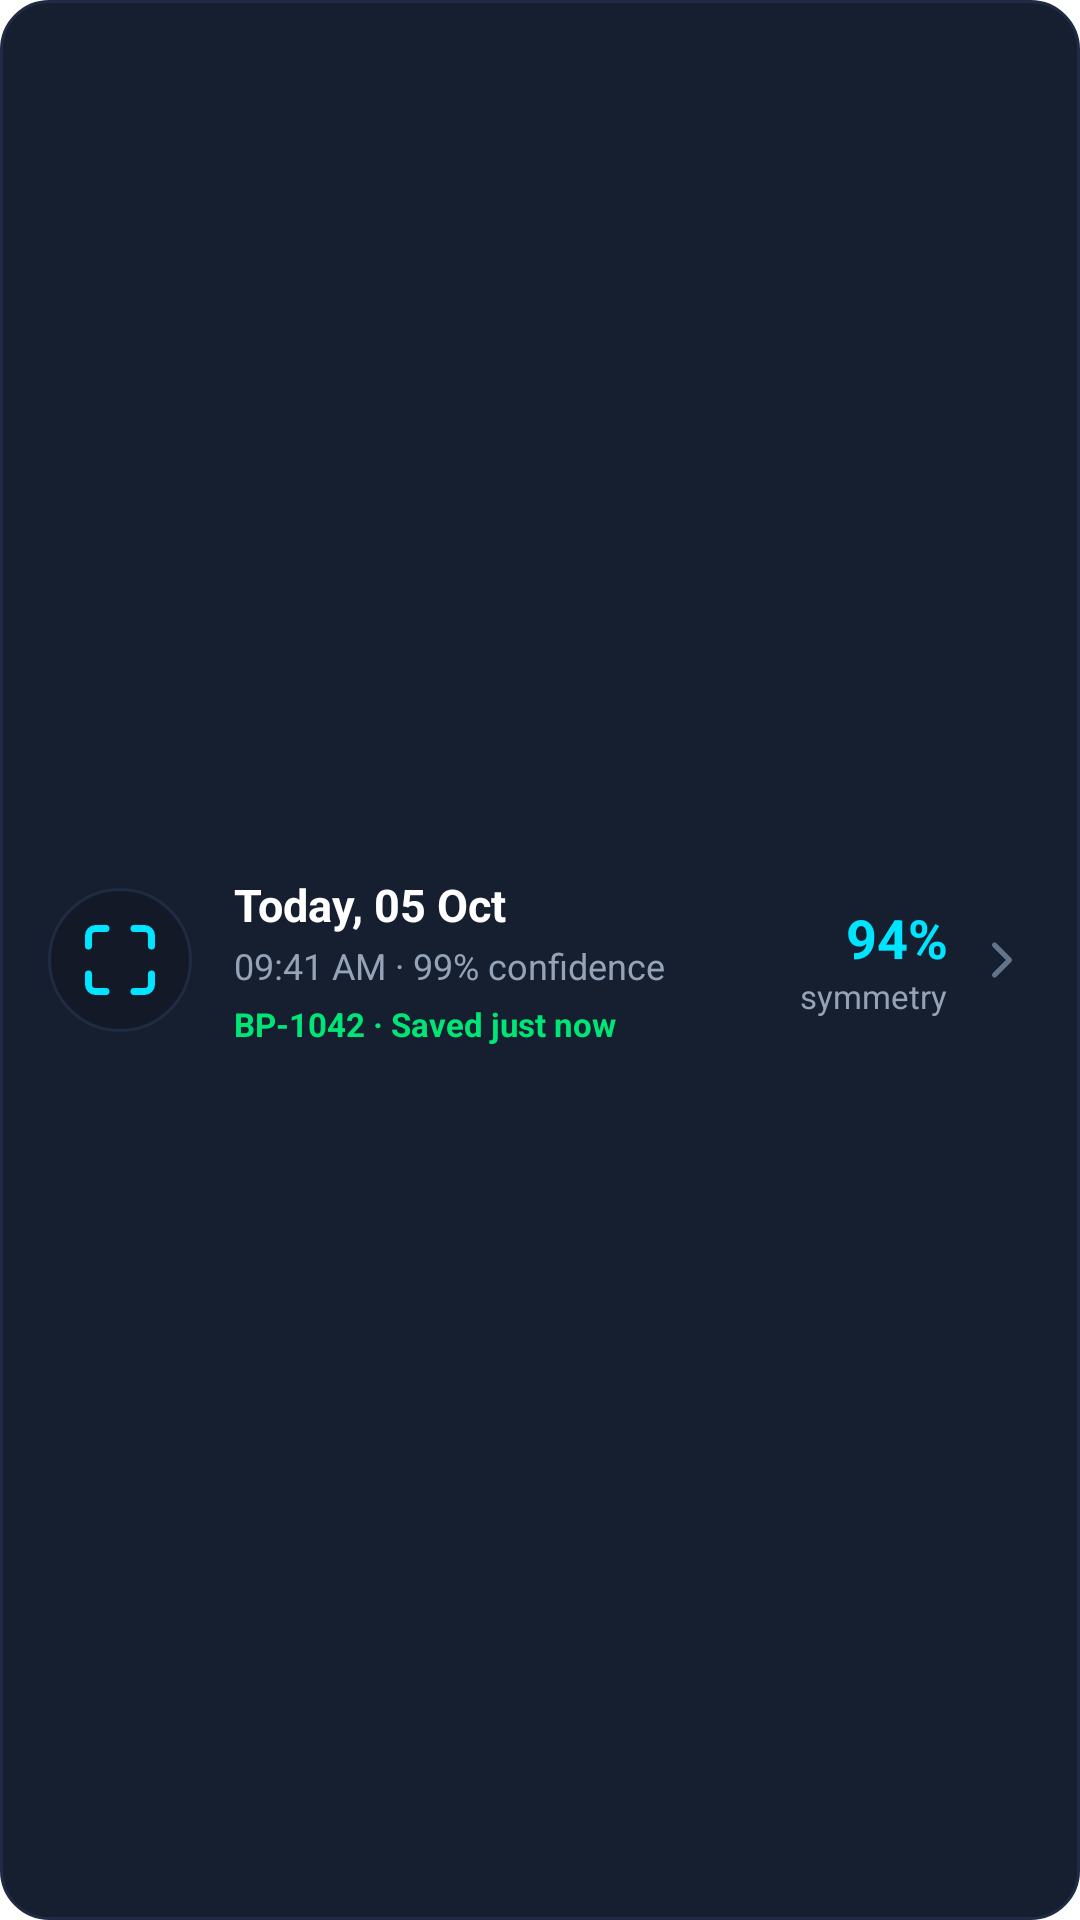

Screen size 1080 × 1920. Icon name, then its center in pixels as point (x, y):
Arrow: point (1002, 960)
